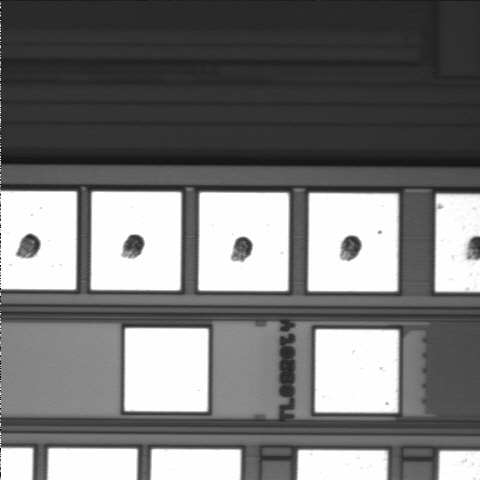pad: (199, 192, 289, 291), (91, 192, 181, 290), (308, 193, 398, 291), (315, 329, 398, 413), (125, 328, 208, 411)
